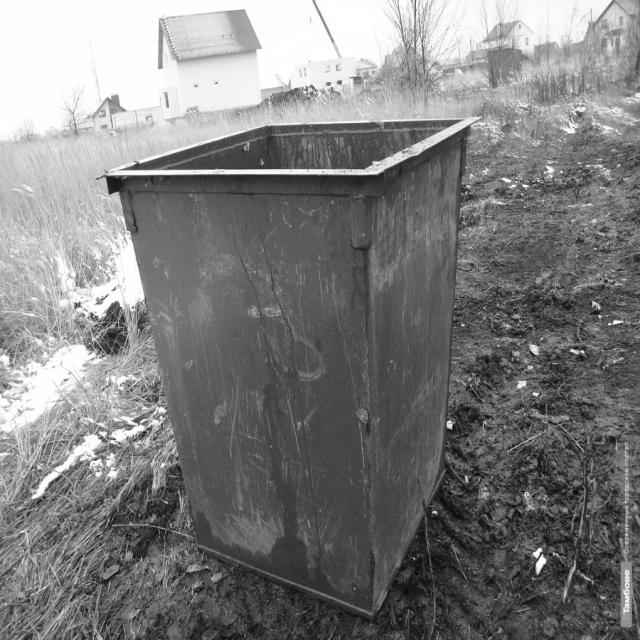Trashcan: (79, 92, 509, 626)
